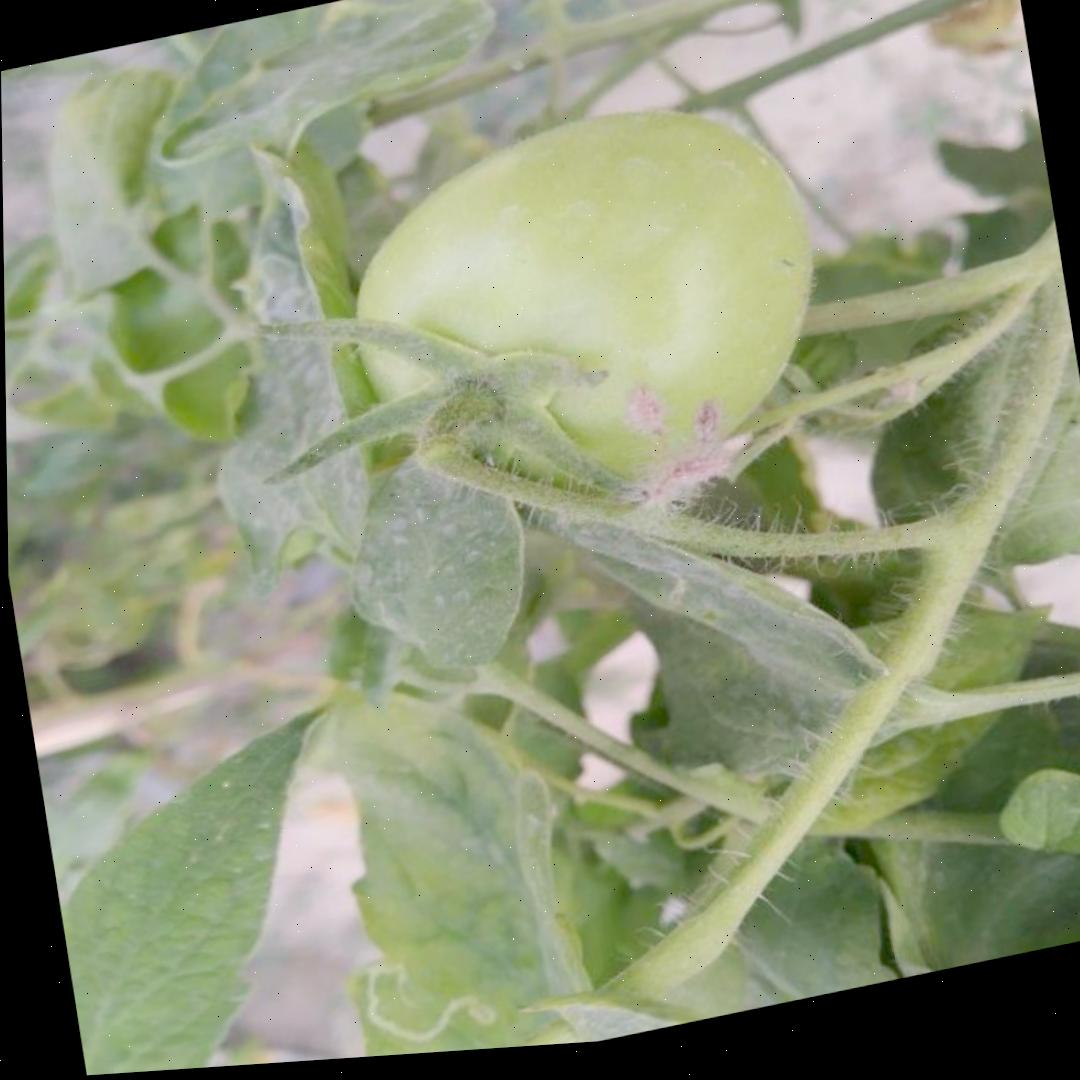mentah: (325, 73, 854, 560)
